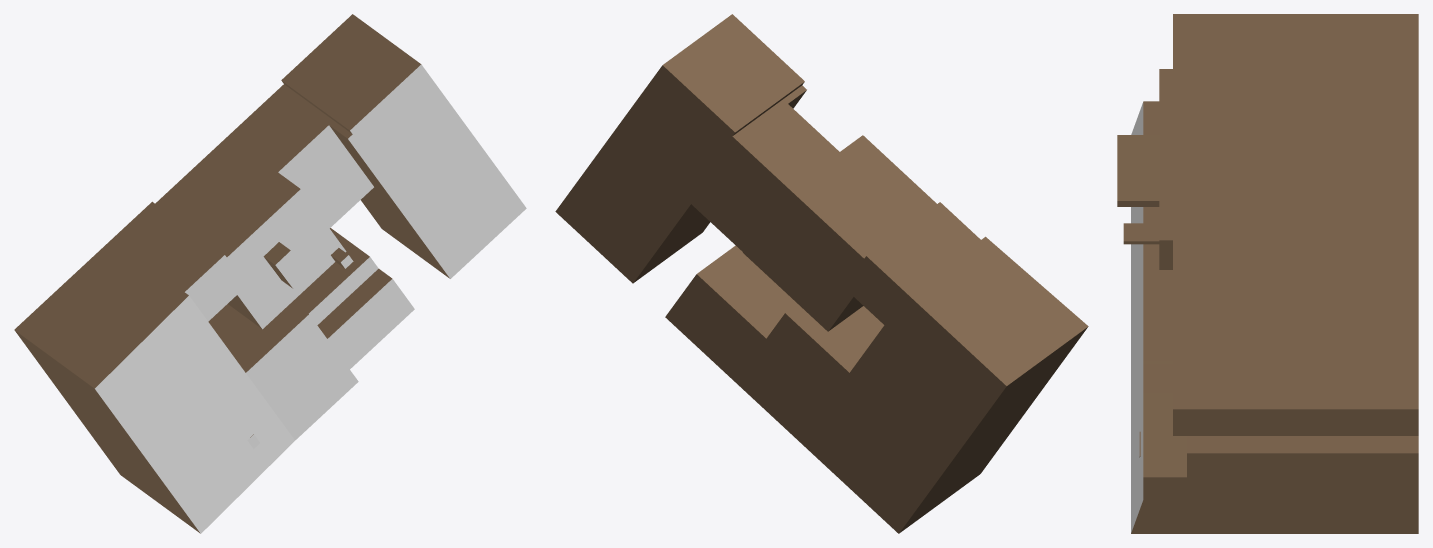
The picture shows the model from 3 angles, left to right: view 1: azimuth 30°, elevation 25°; view 2: azimuth 150°, elevation 25°; view 3: azimuth 270°, elevation 25°; orthographic projection. The views are drawn at different scales.
Parts seen in each view (by area): view 1: City_2316961; view 2: City_2316961; view 3: City_2316961.
Boxes of the visible parts, <box> form: City_2316961: <box>14,14,526,533</box>; City_2316961: <box>555,14,1088,533</box>; City_2316961: <box>1117,14,1418,533</box>.
Size of the model in its own units: 3415 by 2973 by 1124.
